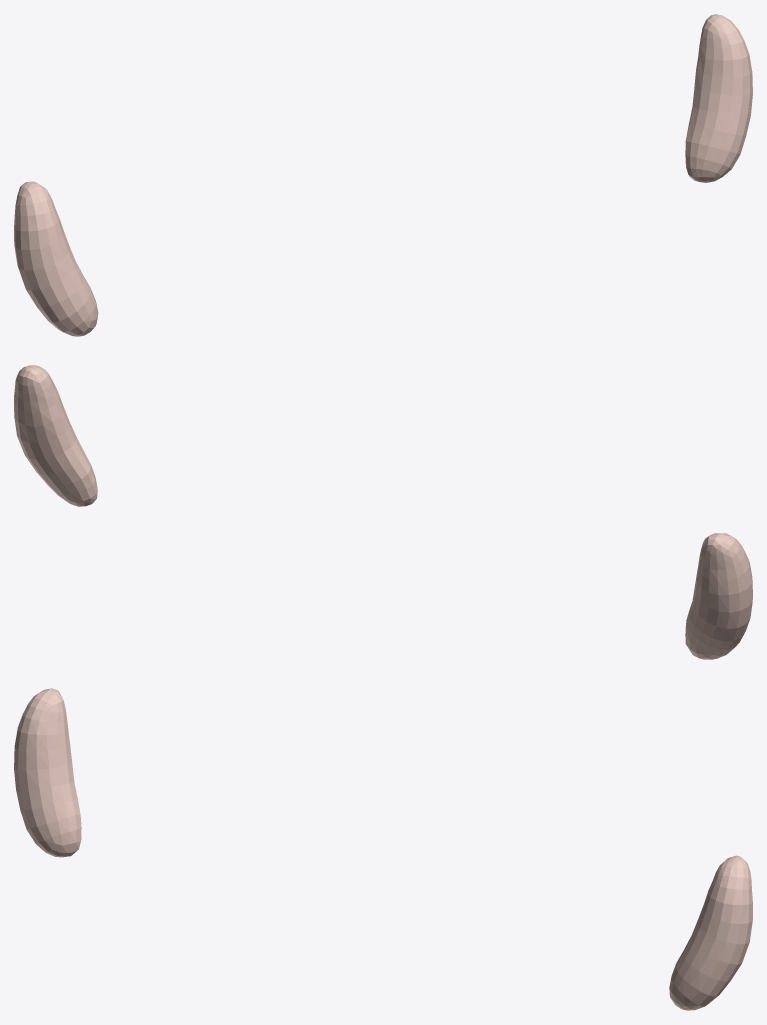
Rendered from ovaries.glb.
The picture shows the model from 3 angles, top to bottom: view 1: azimuth 30°, elevation 25°; view 2: azimuth 150°, elevation 25°; view 3: azimuth 330°, elevation 25°; orthographic projection.
Parts seen in each view (by area): view 1: ovaries; view 2: ovaries; view 3: ovaries.
Boxes of the visible parts, x1=… form: ovaries: x1=14, y1=14, x2=752, y2=336; ovaries: x1=14, y1=365, x2=752, y2=659; ovaries: x1=14, y1=688, x2=752, y2=1010.
Bounding box in the file's own units: 0.1272 × 0.024 × 0.0106.
